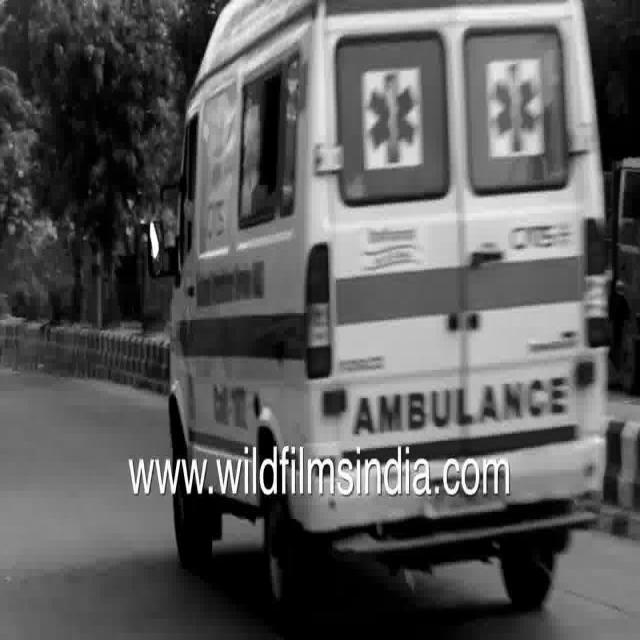ambulance: (145, 2, 633, 448)
